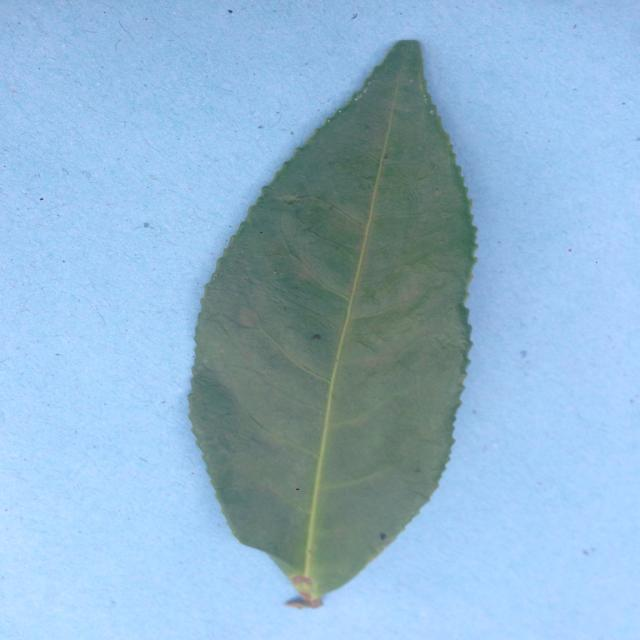Healthy: (162, 14, 503, 618)
